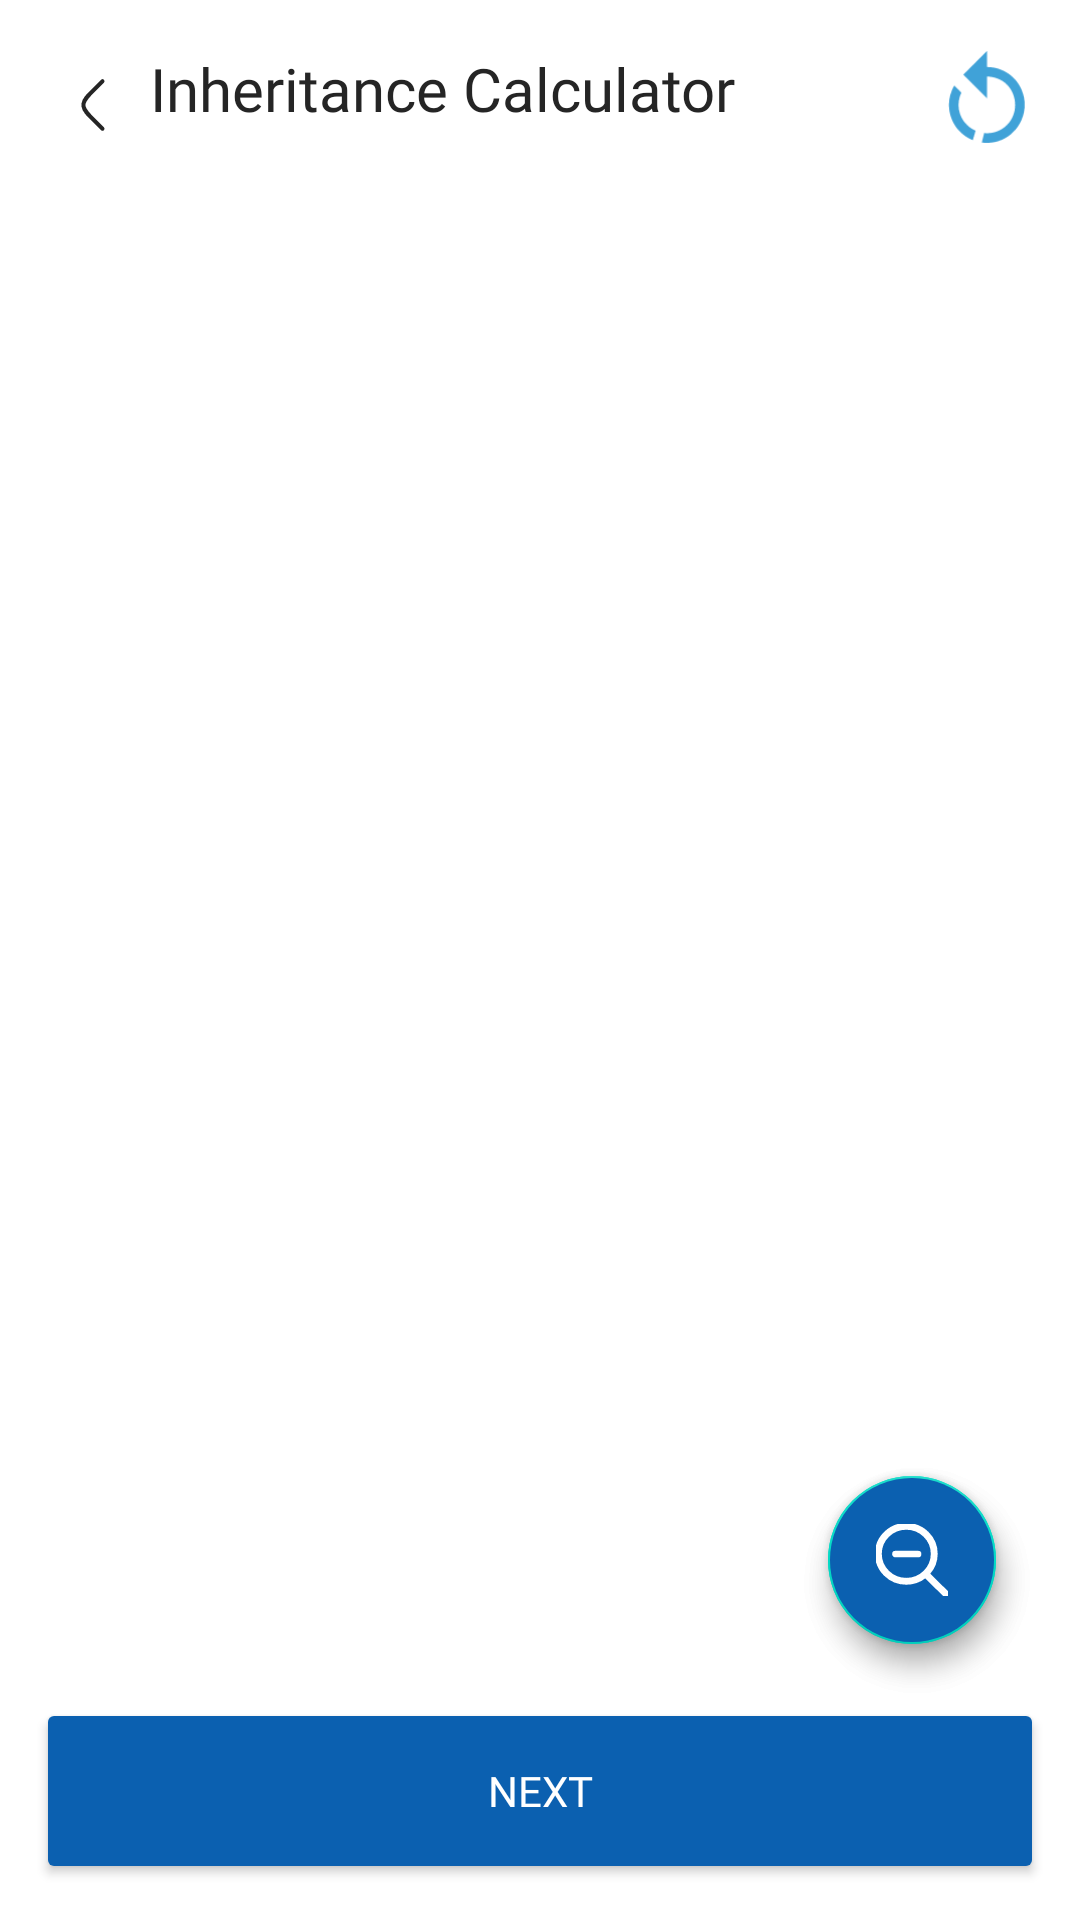

Point at icon controls on the screen. Image size 1080 x 1920, points as [x,y].
left: [93,105]
restart: [986,97]
